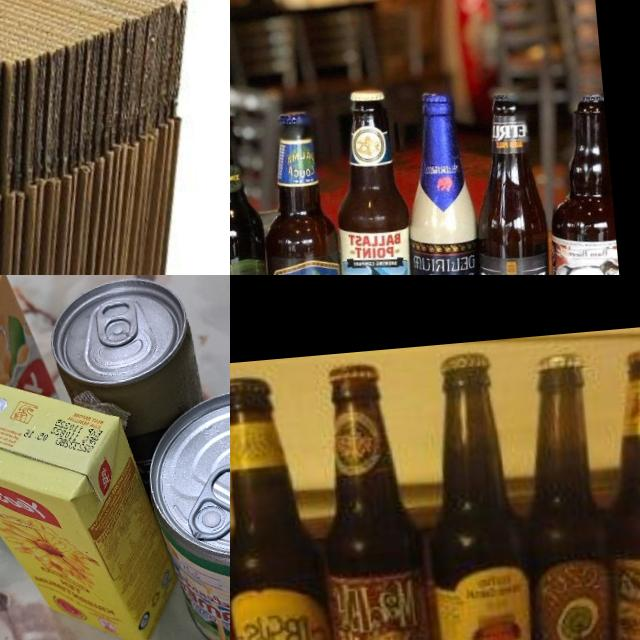aba de lata: (182, 457, 230, 544)
caixinha: (0, 366, 182, 640), (0, 275, 57, 460)
garrafa de vidro: (410, 349, 544, 640), (308, 358, 441, 640), (505, 349, 630, 640), (230, 371, 342, 640), (322, 86, 425, 275), (460, 88, 560, 275), (391, 85, 489, 275), (528, 92, 626, 275), (248, 108, 350, 275), (589, 346, 640, 640), (230, 103, 276, 275)
lata: (45, 276, 204, 446), (143, 378, 230, 640), (93, 295, 141, 347)
papelão: (0, 0, 230, 275)
